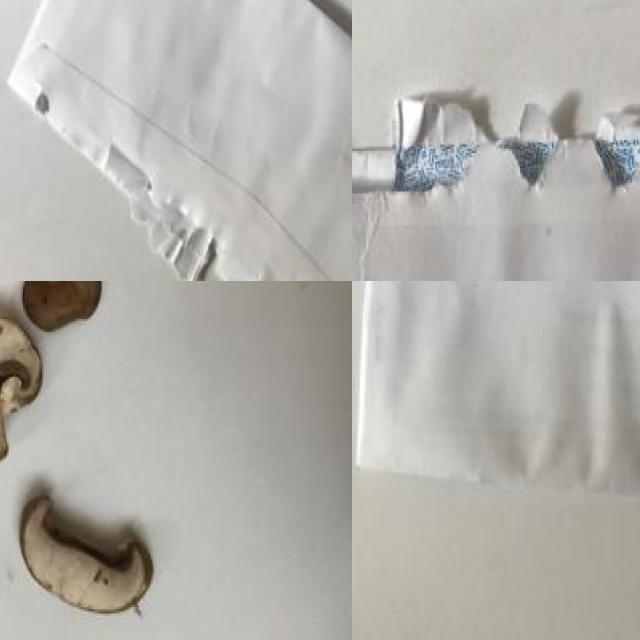compost: (0, 281, 201, 633)
paper: (11, 0, 352, 281), (362, 281, 640, 529), (352, 115, 640, 281)
